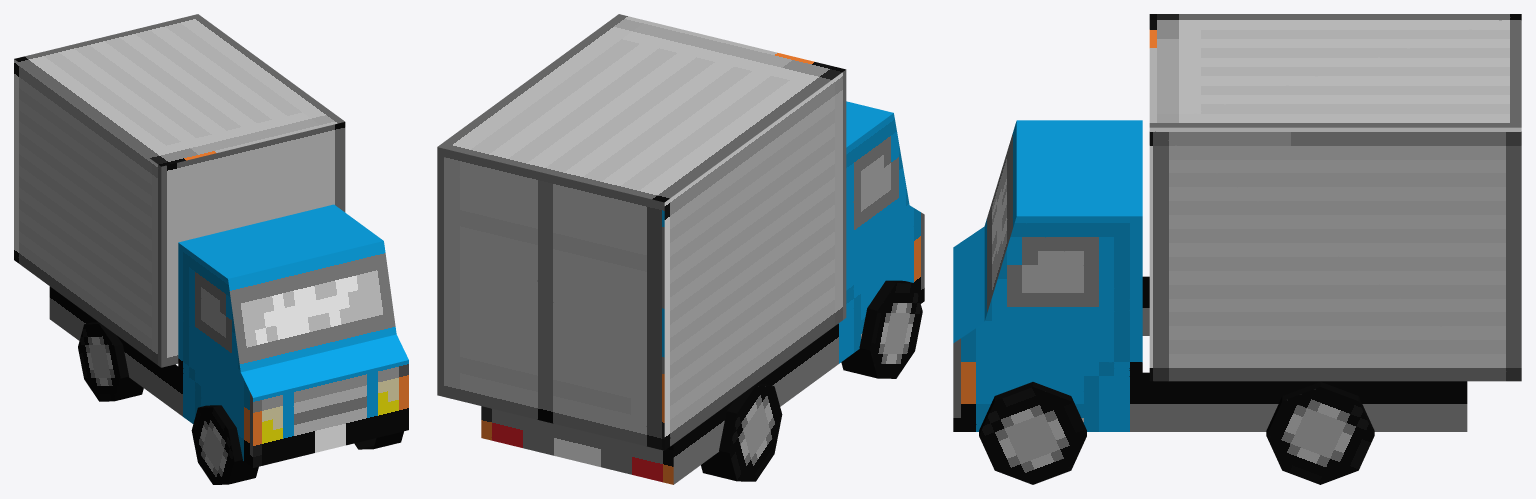
The model's file is caminhao.gltf.
The picture shows the model from 3 angles, left to right: view 1: azimuth 30°, elevation 25°; view 2: azimuth 150°, elevation 25°; view 3: azimuth 270°, elevation 25°; orthographic projection. The views are drawn at different scales.
Visible parts, largest first — view 1: Camião; view 2: Camião; view 3: Camião.
Boxes of the visible parts, bbox=[...] form: Camião: bbox=[14, 14, 408, 484]; Camião: bbox=[437, 14, 924, 484]; Camião: bbox=[953, 14, 1521, 484].
Size of the model in its own units: 1.29 by 1.91 by 2.73.
1 material, 1 textured.
